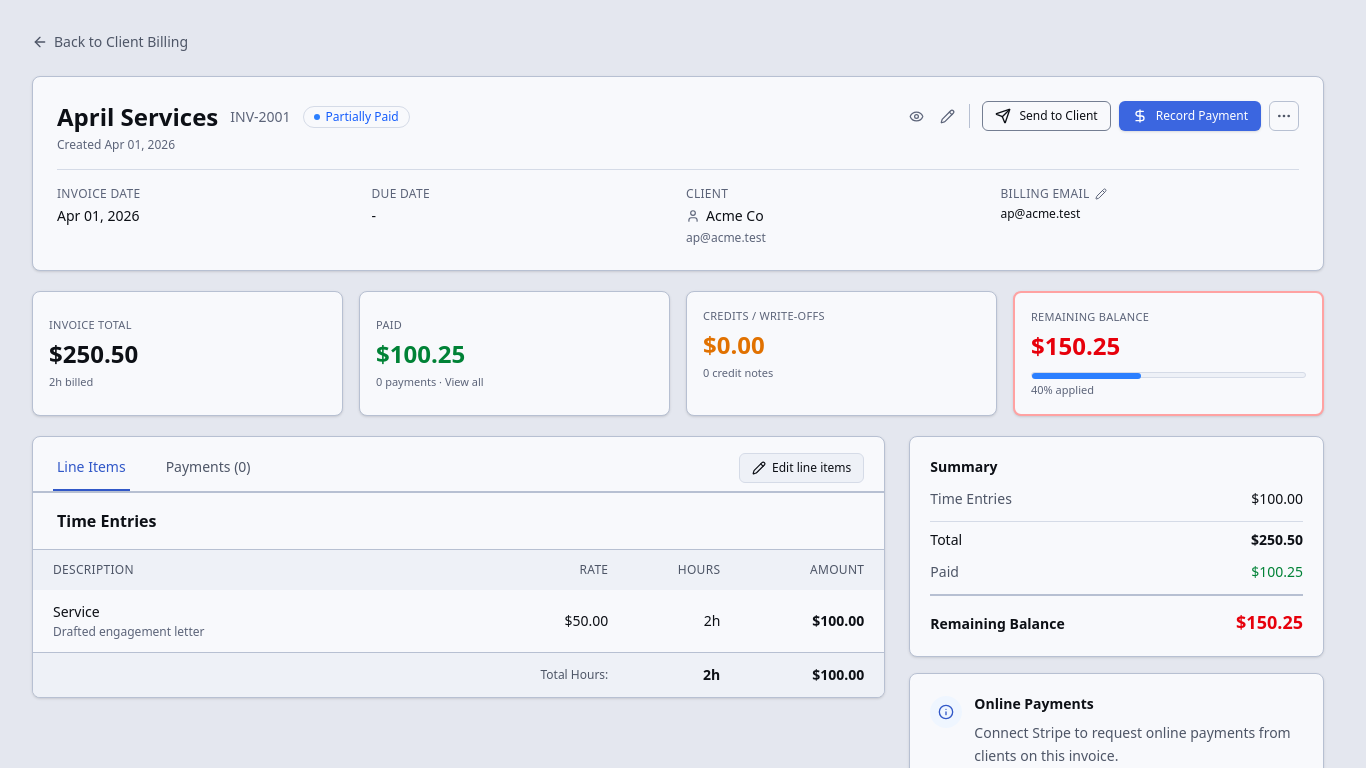
Test case: recording a payment › prefills the amount with the remaining balance to the cent
Click the button "Record Payment" at (1190, 116), box left=1119, top=101, right=1261, bottom=131
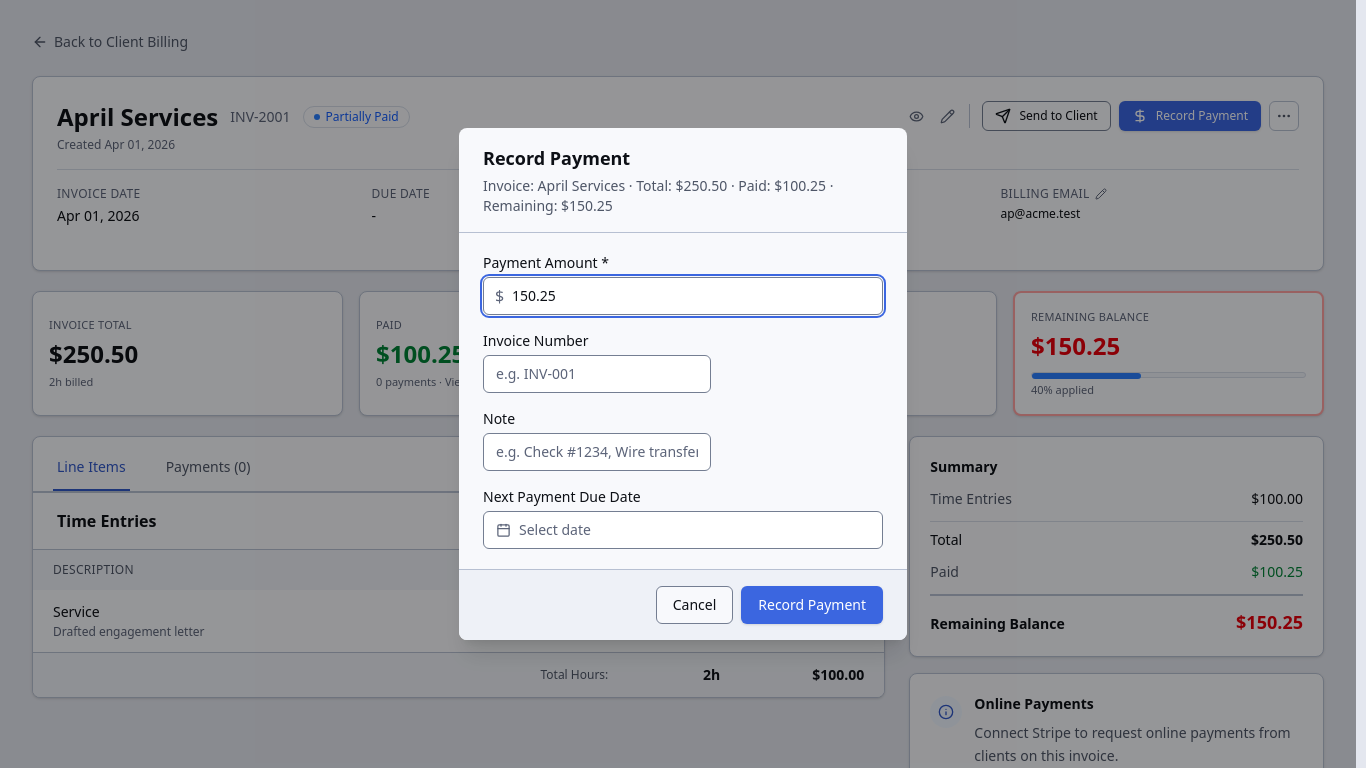
Expected: the number field with placeholder "0.00" holds "150.25", left=483, top=277, right=883, bottom=315
